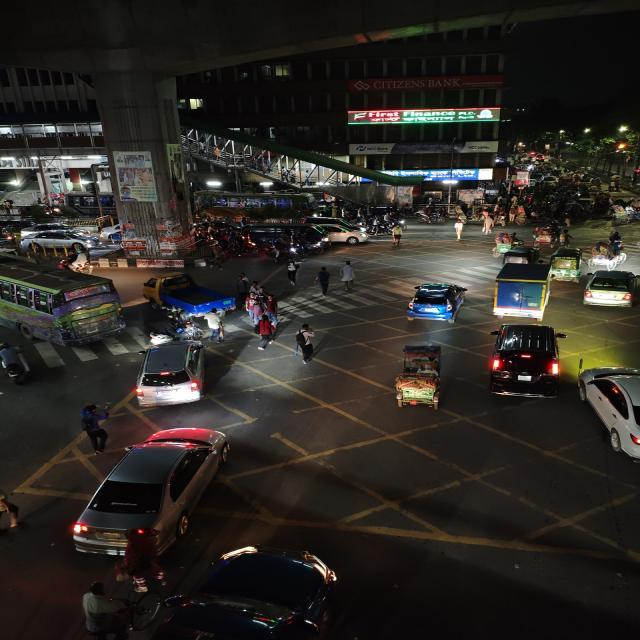bus: (0, 251, 125, 346)
car: (66, 424, 235, 558), (134, 541, 351, 640), (574, 361, 640, 467), (483, 320, 568, 401), (130, 338, 211, 409), (400, 280, 472, 325), (580, 269, 639, 310), (326, 221, 368, 248)
cng: (548, 246, 584, 282)
motorcycle: (111, 534, 171, 596), (0, 480, 23, 541), (0, 342, 31, 386), (228, 236, 267, 260), (267, 236, 303, 260), (298, 234, 324, 256)
pedestrian: (76, 580, 127, 640), (78, 401, 112, 453), (291, 322, 322, 366), (0, 342, 30, 386), (253, 314, 277, 351), (205, 310, 228, 343), (338, 259, 359, 292), (311, 266, 334, 296), (283, 255, 303, 285), (244, 292, 264, 322), (262, 290, 281, 320), (448, 215, 468, 241), (387, 221, 406, 245), (480, 211, 497, 235), (211, 246, 225, 270), (559, 227, 573, 246)
pickup_van: (150, 276, 234, 318)
rickshaw: (386, 343, 456, 412), (586, 240, 626, 270), (488, 231, 524, 259), (513, 207, 557, 228), (610, 203, 640, 228), (532, 225, 556, 247)
truck: (488, 264, 556, 320)
